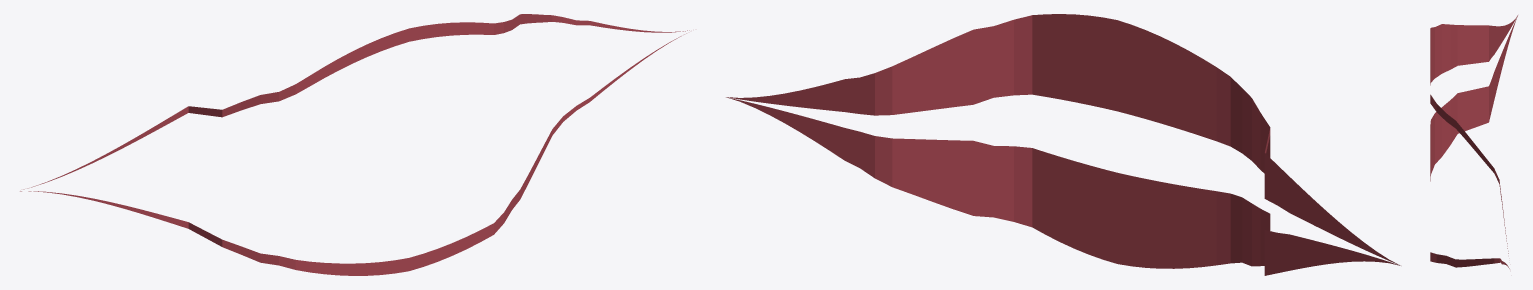
Rendered from D3_body.glb.
3 renders of one model, left to right at view 1: azimuth 30°, elevation 25°; view 2: azimuth 150°, elevation 25°; view 3: azimuth 270°, elevation 25°, orthographic. The views are drawn at different scales.
Parts seen in each view (by area): view 1: world; view 2: world; view 3: world.
Part boxes in pixels (box(x1,y1,x2,y2)): world: box(20, 14, 689, 275); world: box(726, 14, 1400, 275); world: box(1430, 15, 1517, 268).
Size of the model in its own units: 4.7 by 1.61 by 0.67.
